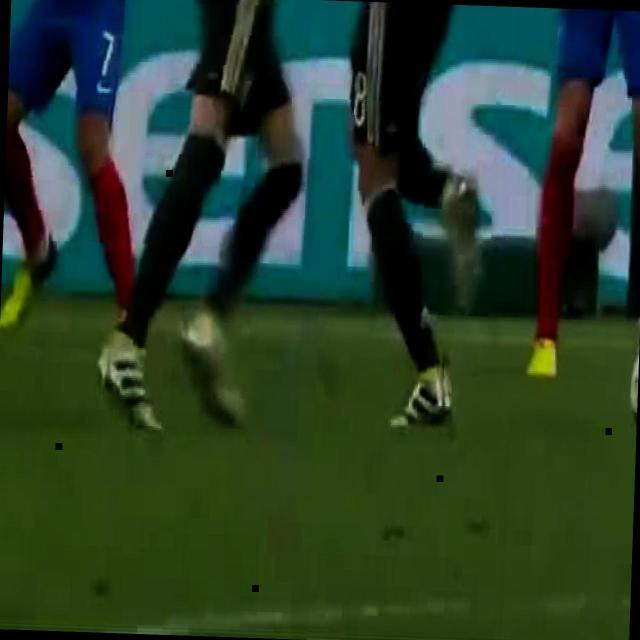ball: (628, 325, 640, 437)
player-white: (94, 0, 388, 432), (331, 0, 495, 428), (0, 0, 149, 351), (517, 7, 640, 377)
